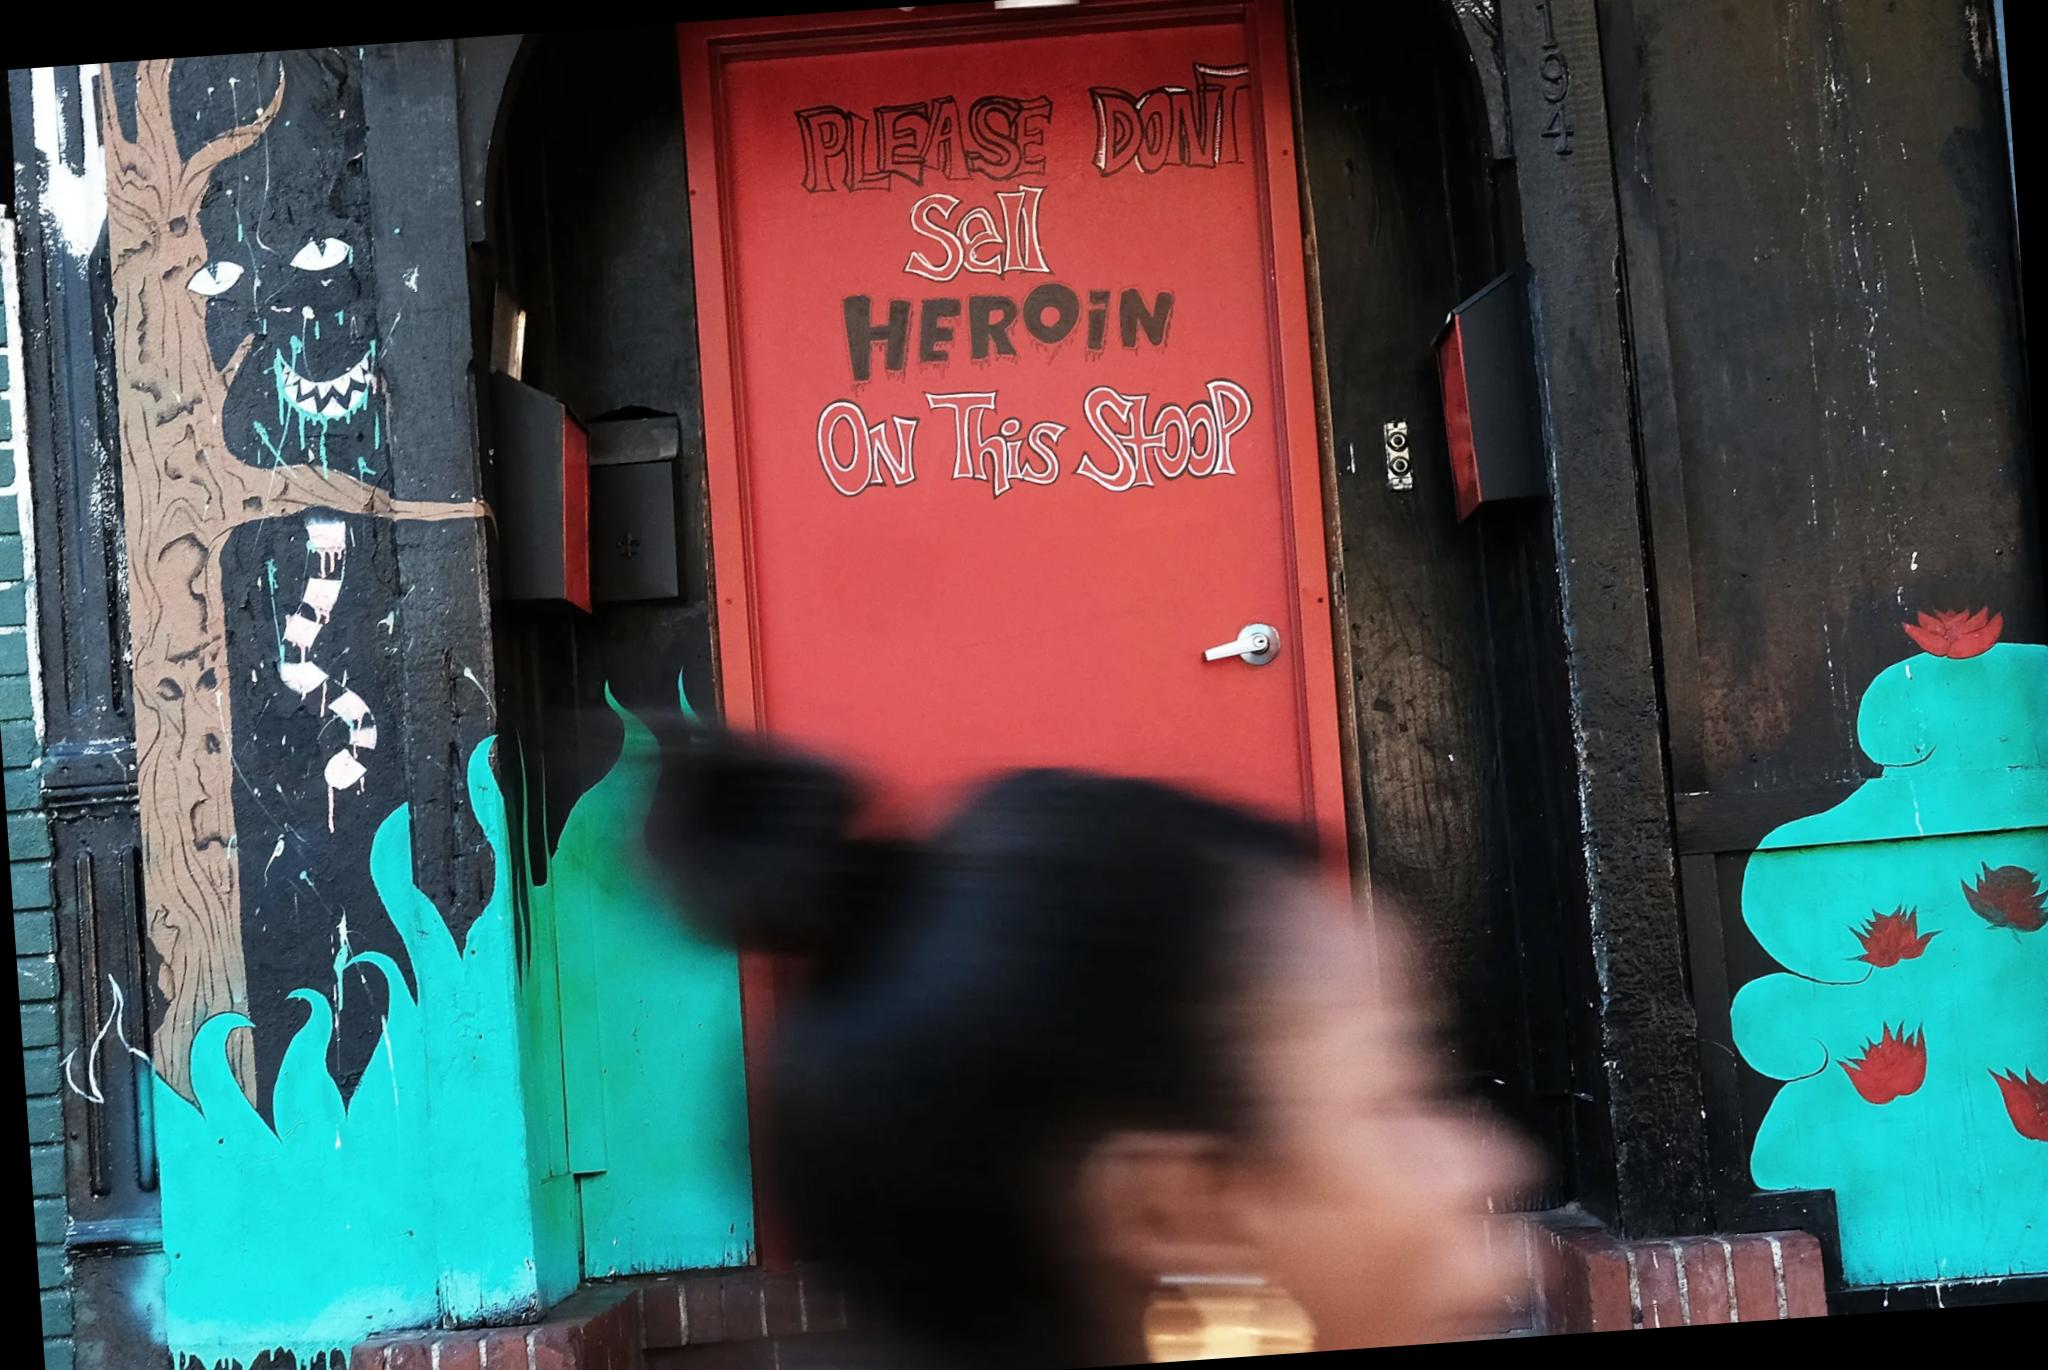graffiti: (90, 46, 544, 1330), (1684, 599, 2048, 1294), (787, 63, 1285, 526), (503, 716, 755, 1280)
